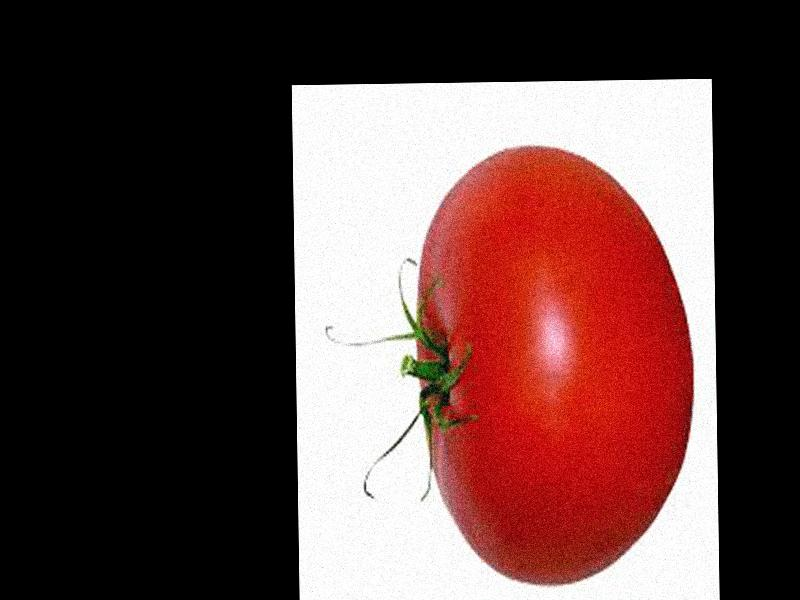Tomato: (412, 140, 695, 586)
